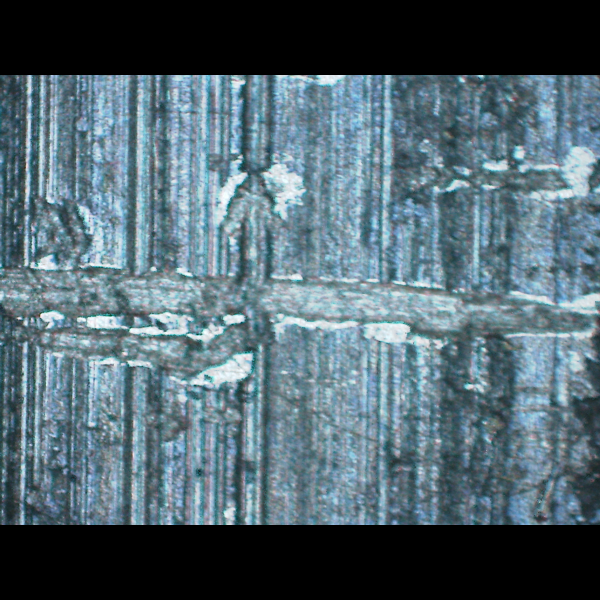d: (0, 258, 598, 391), (195, 141, 308, 239), (401, 147, 599, 195), (25, 189, 103, 268)
